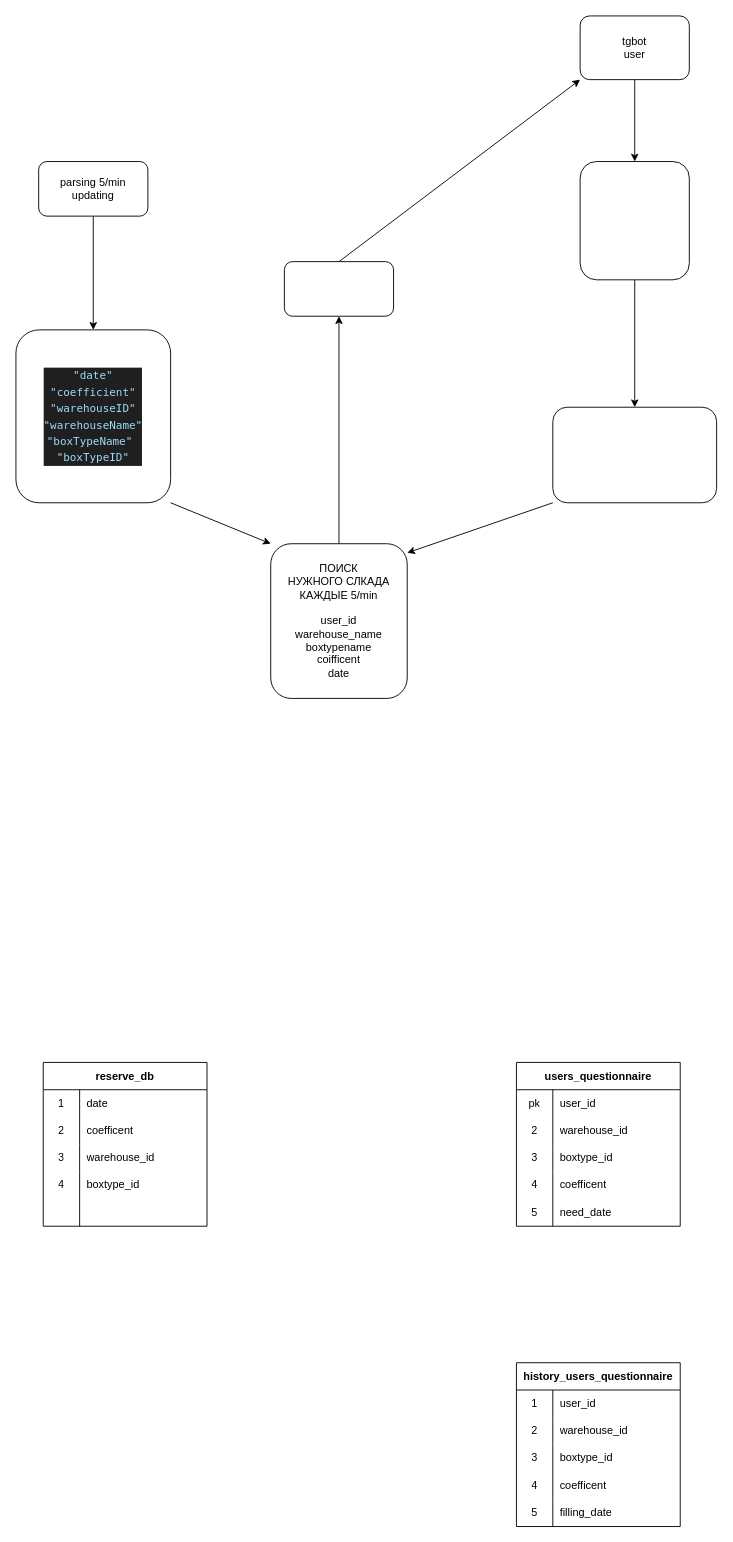
Image size: 733x1542. Some labels were removed from this diagram. Here are the shapes that lost their labels. From the top down, the centre of each, then its label:
the point at 634,220: ЗАПОЛНЕНИЕ АНКЕТЫ id_user warehouse_name boxtupename coefficent date
the point at 338,288: НАЙДЕННЫЕ СКЛАДЫ
the point at 634,454: АНКЕТА В БАЗЕ ДАННЫХ id_user warehouse_name boxtypename coefficent date
